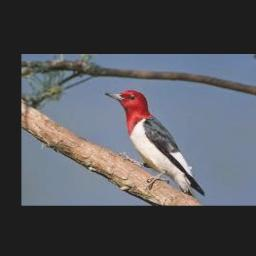Woodpecker: (105, 89, 205, 201)
